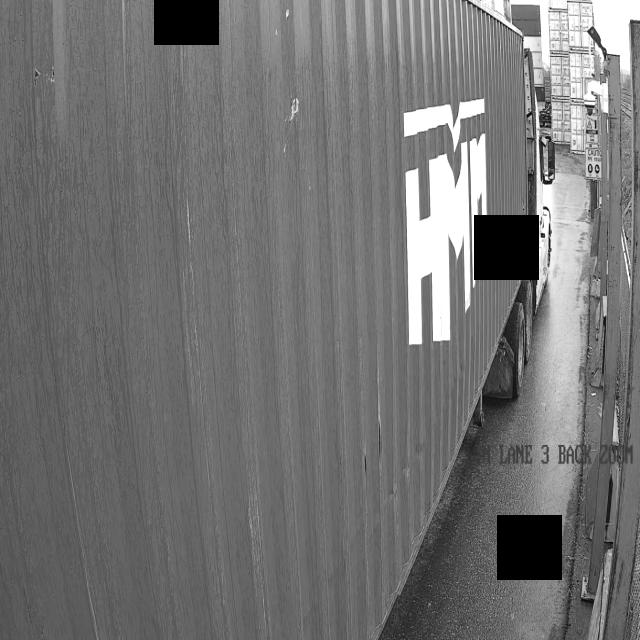container_company_logo: (367, 71, 539, 364), (390, 100, 496, 346)
truck_with_container: (0, 0, 553, 640), (0, 0, 542, 640)
